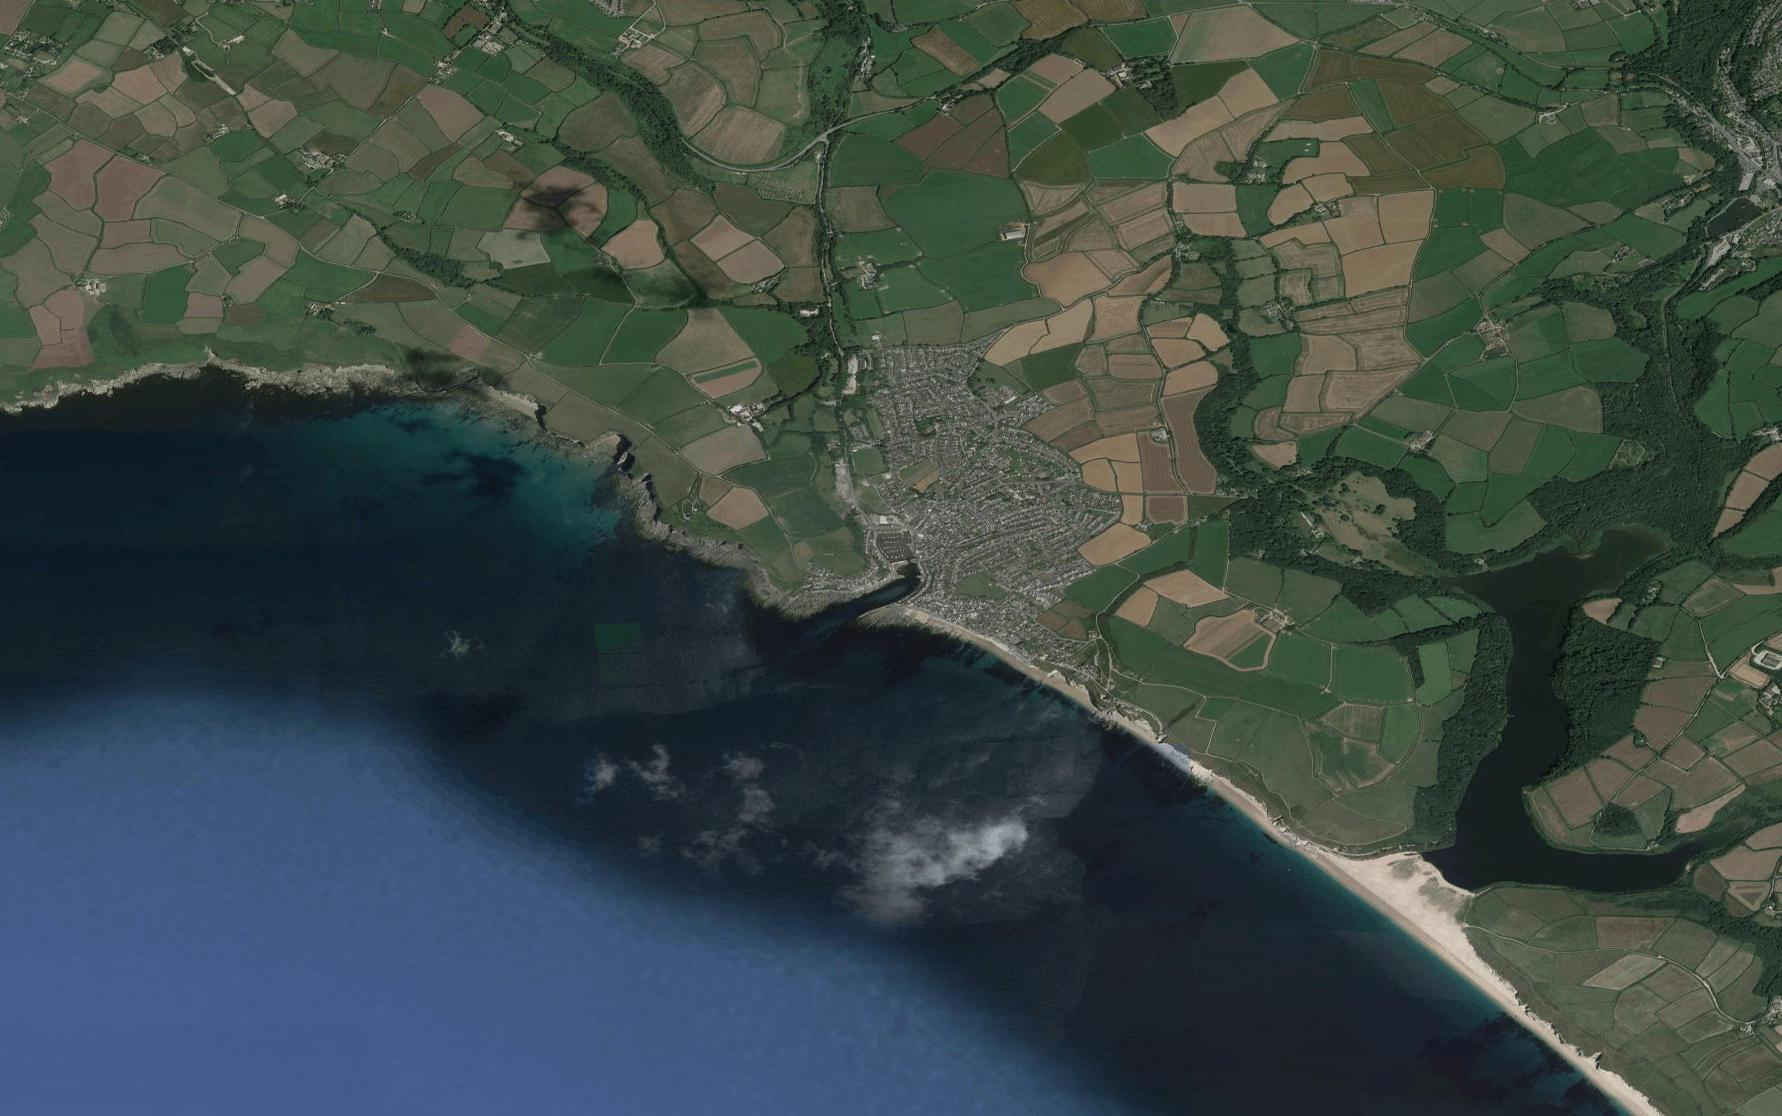harbor: (868, 525, 924, 591)
